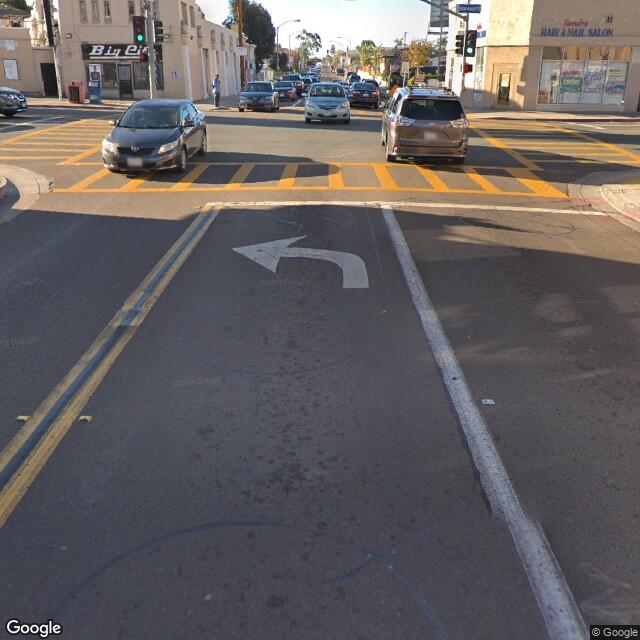road line: (53, 234, 194, 415), (414, 312, 496, 490)
window: (540, 47, 576, 109), (591, 46, 629, 99)
